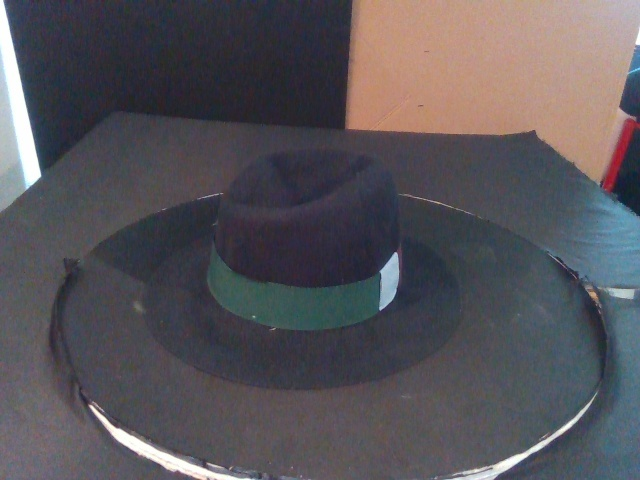hat: (140, 151, 460, 388)
